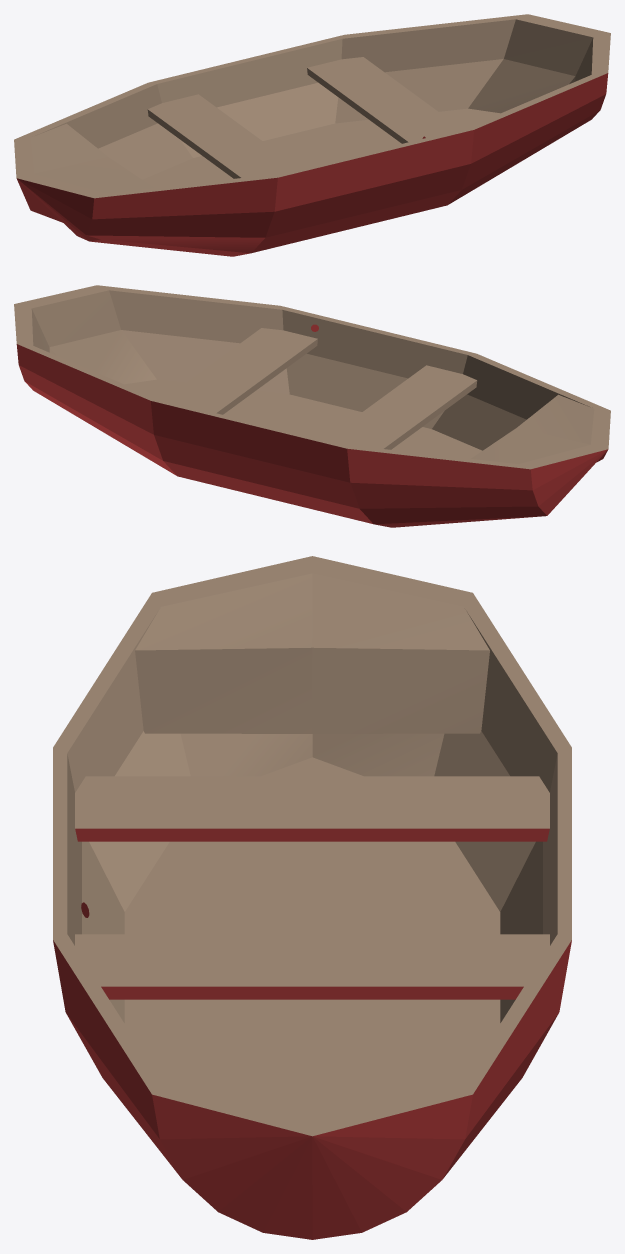
The model's file is CrocoBoat.fbx.
3 renders of one model, top to bottom at view 1: azimuth 30°, elevation 25°; view 2: azimuth 150°, elevation 25°; view 3: azimuth 270°, elevation 25°, orthographic. The views are drawn at different scales.
Parts seen in each view (by area): view 1: Sphere001; view 2: Sphere001; view 3: Sphere001.
Part boxes in pixels (x1,y1,x2,y2): Sphere001: (14,14,610,256); Sphere001: (14,285,610,527); Sphere001: (53,556,571,1239).
Bounding box in the file's own units: 400 × 75.63 × 151.
